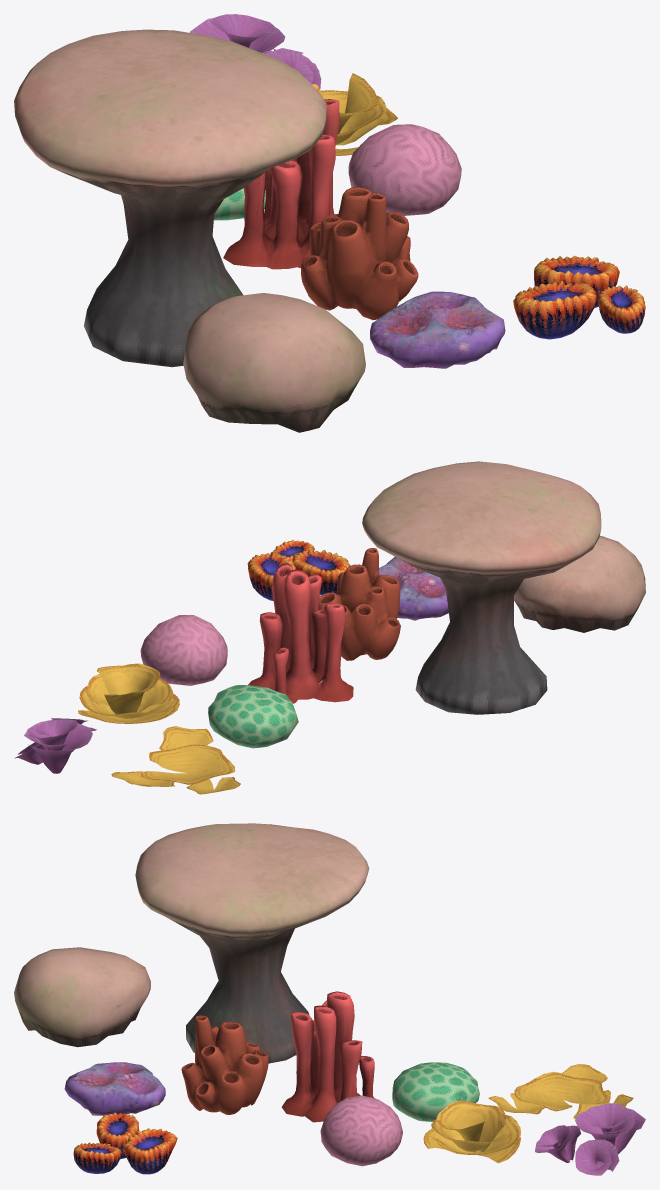
The model's file is soft-coral-set.glb.
3 renders of one model, top to bottom at view 1: azimuth 30°, elevation 25°; view 2: azimuth 150°, elevation 25°; view 3: azimuth 270°, elevation 25°, orthographic. The views are drawn at different scales.
Visible parts, largest first — view 1: Coral02_low_M_coral_02_0, Coral01_low_M_coral_02_0, coral19_M_coral_01_0, coral25_M_coral_01_0, coral20_M_coral_01_0, coral26_M_coral_01_0, coral22_M_coral_01_0, coral21_M_coral_01_0, coral28_M_coral_01_0, coral27_M_coral_01_0; view 2: Coral02_low_M_coral_02_0, coral25_M_coral_01_0, Coral01_low_M_coral_02_0, coral19_M_coral_01_0, coral28_M_coral_01_0, coral22_M_coral_01_0, coral24_M_coral_01_0, coral27_M_coral_01_0, coral26_M_coral_01_0, coral21_M_coral_01_0, coral20_M_coral_01_0; view 3: Coral02_low_M_coral_02_0, Coral01_low_M_coral_02_0, coral25_M_coral_01_0, coral19_M_coral_01_0, coral21_M_coral_01_0, coral22_M_coral_01_0, coral28_M_coral_01_0, coral26_M_coral_01_0, coral20_M_coral_01_0, coral24_M_coral_01_0, coral27_M_coral_01_0.
Boxes of the visible parts, left/top/right/bottom form: Coral02_low_M_coral_02_0: left=14, top=29, right=326, bottom=367; Coral01_low_M_coral_02_0: left=183, top=293, right=365, bottom=432; coral19_M_coral_01_0: left=301, top=187, right=418, bottom=319; coral25_M_coral_01_0: left=223, top=99, right=339, bottom=269; coral20_M_coral_01_0: left=370, top=291, right=505, bottom=368; coral26_M_coral_01_0: left=513, top=255, right=645, bottom=339; coral22_M_coral_01_0: left=348, top=124, right=461, bottom=215; coral21_M_coral_01_0: left=190, top=14, right=321, bottom=88; coral28_M_coral_01_0: left=312, top=73, right=397, bottom=155; coral27_M_coral_01_0: left=214, top=188, right=265, bottom=220; Coral02_low_M_coral_02_0: left=362, top=461, right=601, bottom=714; coral25_M_coral_01_0: left=248, top=563, right=353, bottom=703; Coral01_low_M_coral_02_0: left=514, top=535, right=645, bottom=632; coral19_M_coral_01_0: left=318, top=548, right=400, bottom=660; coral28_M_coral_01_0: left=78, top=663, right=179, bottom=723; coral22_M_coral_01_0: left=140, top=615, right=227, bottom=685; coral24_M_coral_01_0: left=111, top=726, right=240, bottom=794; coral27_M_coral_01_0: left=208, top=685, right=298, bottom=748; coral26_M_coral_01_0: left=247, top=540, right=350, bottom=600; coral21_M_coral_01_0: left=14, top=718, right=96, bottom=773; coral20_M_coral_01_0: left=379, top=557, right=448, bottom=620; Coral02_low_M_coral_02_0: left=135, top=823, right=369, bottom=1063; Coral01_low_M_coral_02_0: left=14, top=947, right=150, bottom=1047; coral25_M_coral_01_0: left=281, top=991, right=375, bottom=1122; coral19_M_coral_01_0: left=181, top=1015, right=268, bottom=1114; coral21_M_coral_01_0: left=535, top=1103, right=645, bottom=1175; coral22_M_coral_01_0: left=320, top=1095, right=402, bottom=1166; coral28_M_coral_01_0: left=423, top=1100, right=520, bottom=1163; coral26_M_coral_01_0: left=73, top=1112, right=177, bottom=1174; coral20_M_coral_01_0: left=64, top=1062, right=165, bottom=1115; coral24_M_coral_01_0: left=488, top=1064, right=633, bottom=1118; coral27_M_coral_01_0: left=392, top=1062, right=479, bottom=1121.
Size of the model in its own units: 0.4012 by 0.2051 by 0.5804.
Materials: 2 (2 with a texture image).
